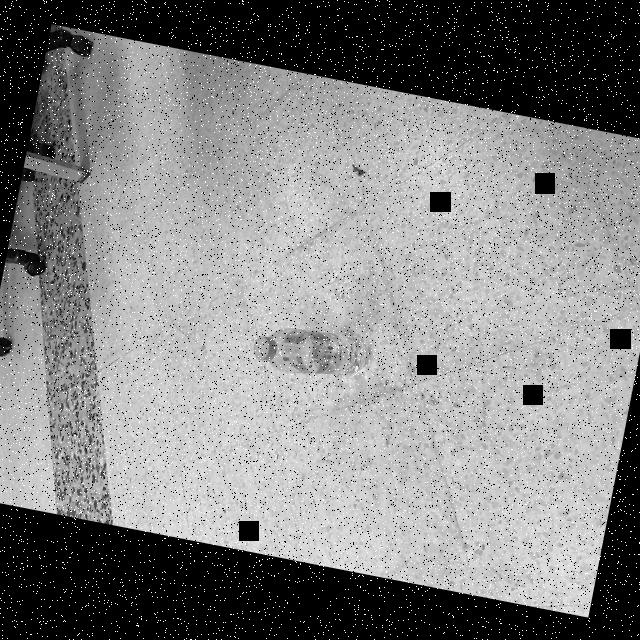plastic_bottle: (252, 316, 378, 388)
plastic_bottle_cap: (250, 333, 279, 362)
